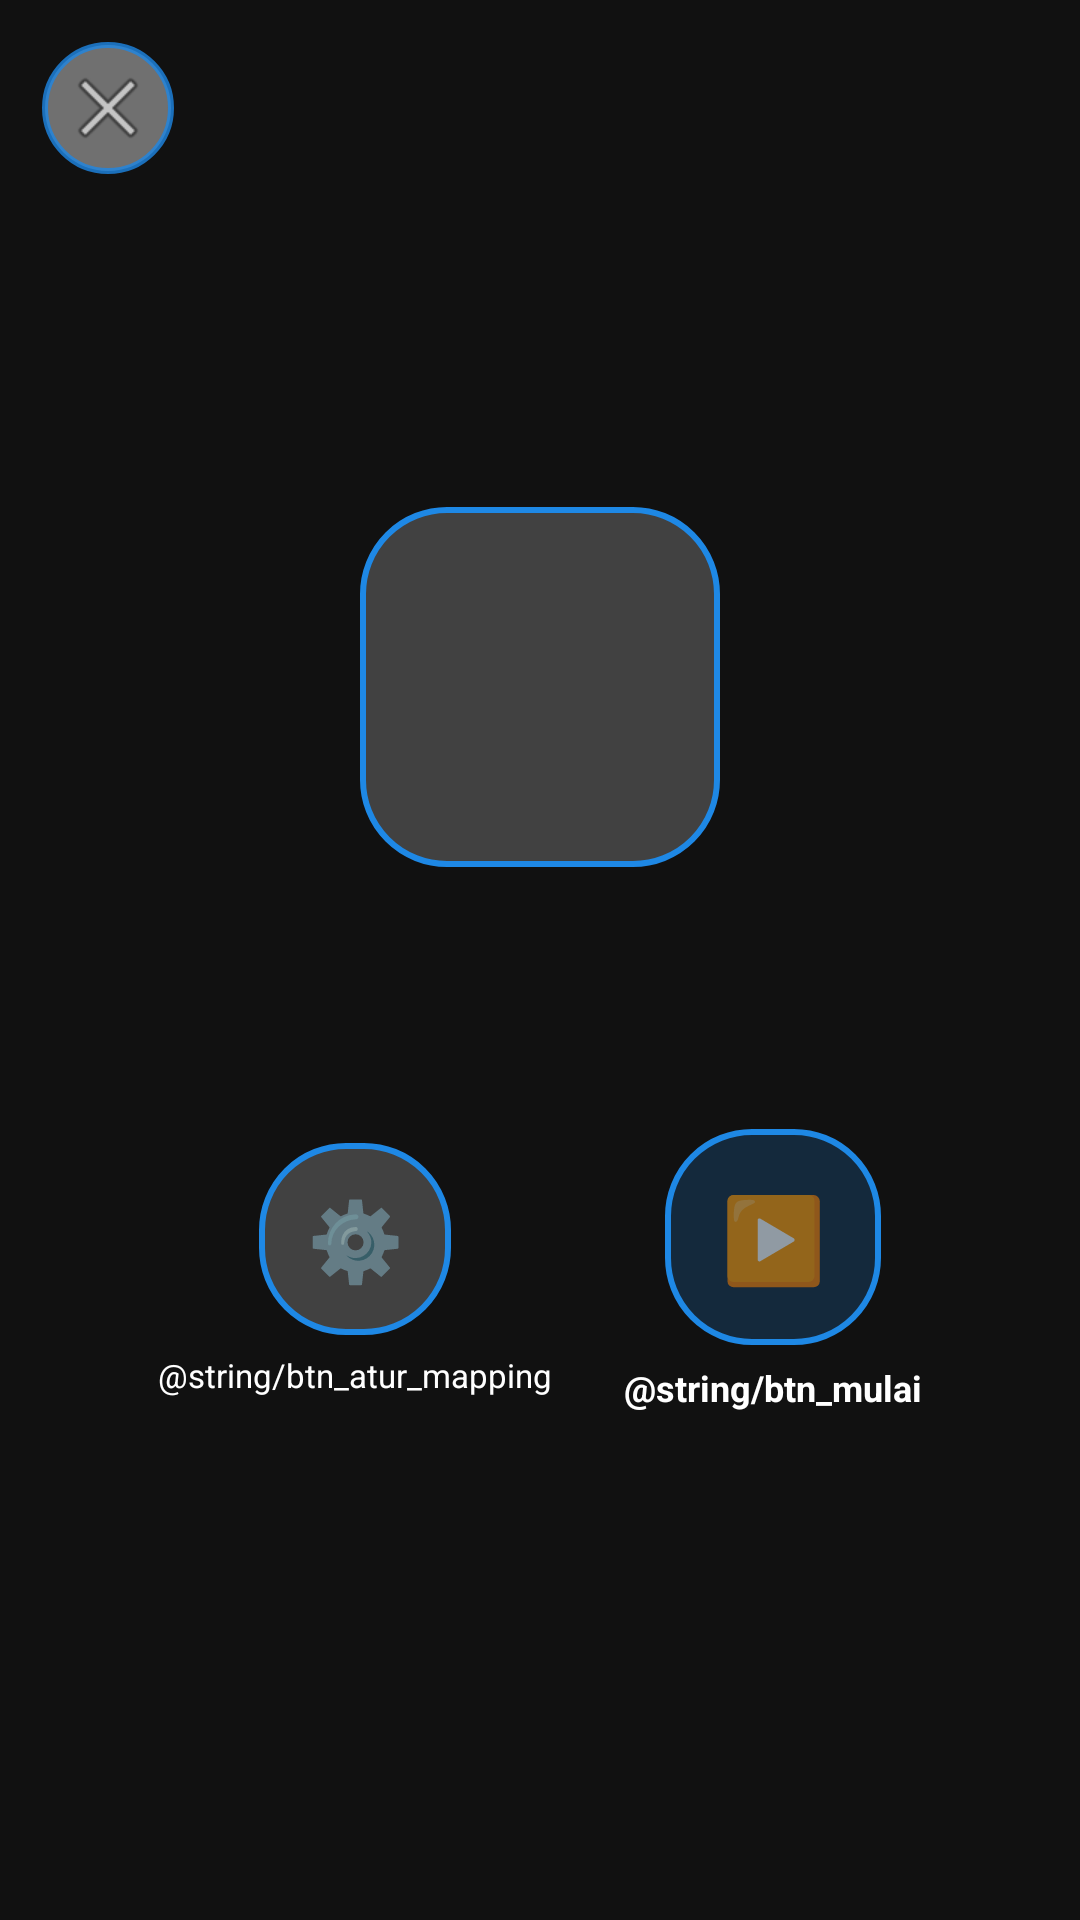

Screen size 1080 × 1920. Icon name, then its center in pixels as (x,y):
Kembali: (108,108)
